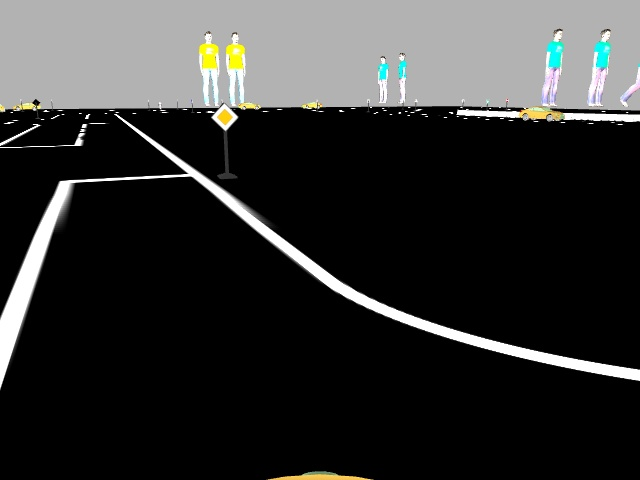Priority: (213, 104, 235, 130)
